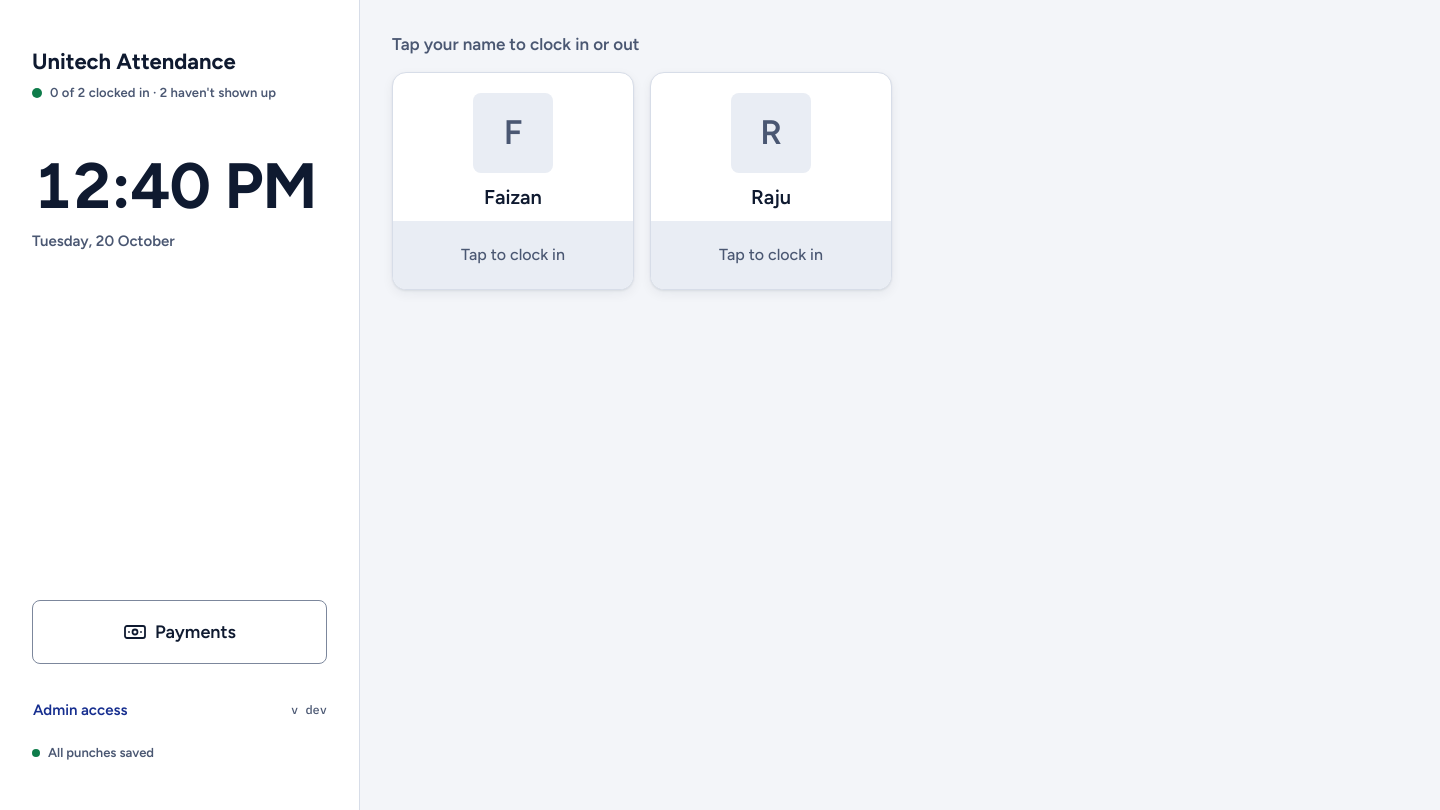
Kiosk · payments month and add › shows only what the employee logged, never the owner's amount
The width and height of the screenshot is (1440, 810).
Click the button "Payments" at (180, 632), box [32,600,327,664]
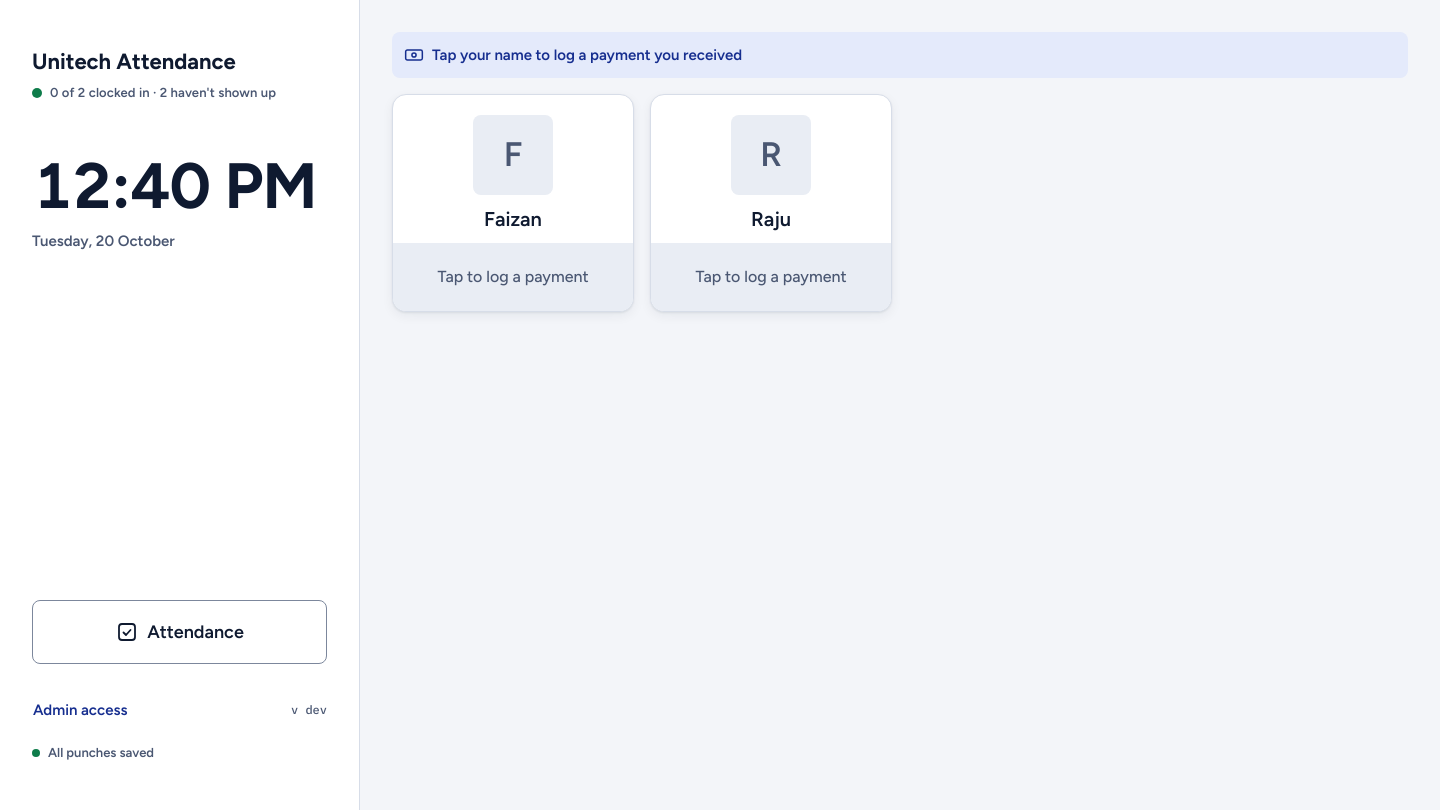
Click the button "R Raju Tap to log a payment" at (771, 203), box [650,94,892,312]
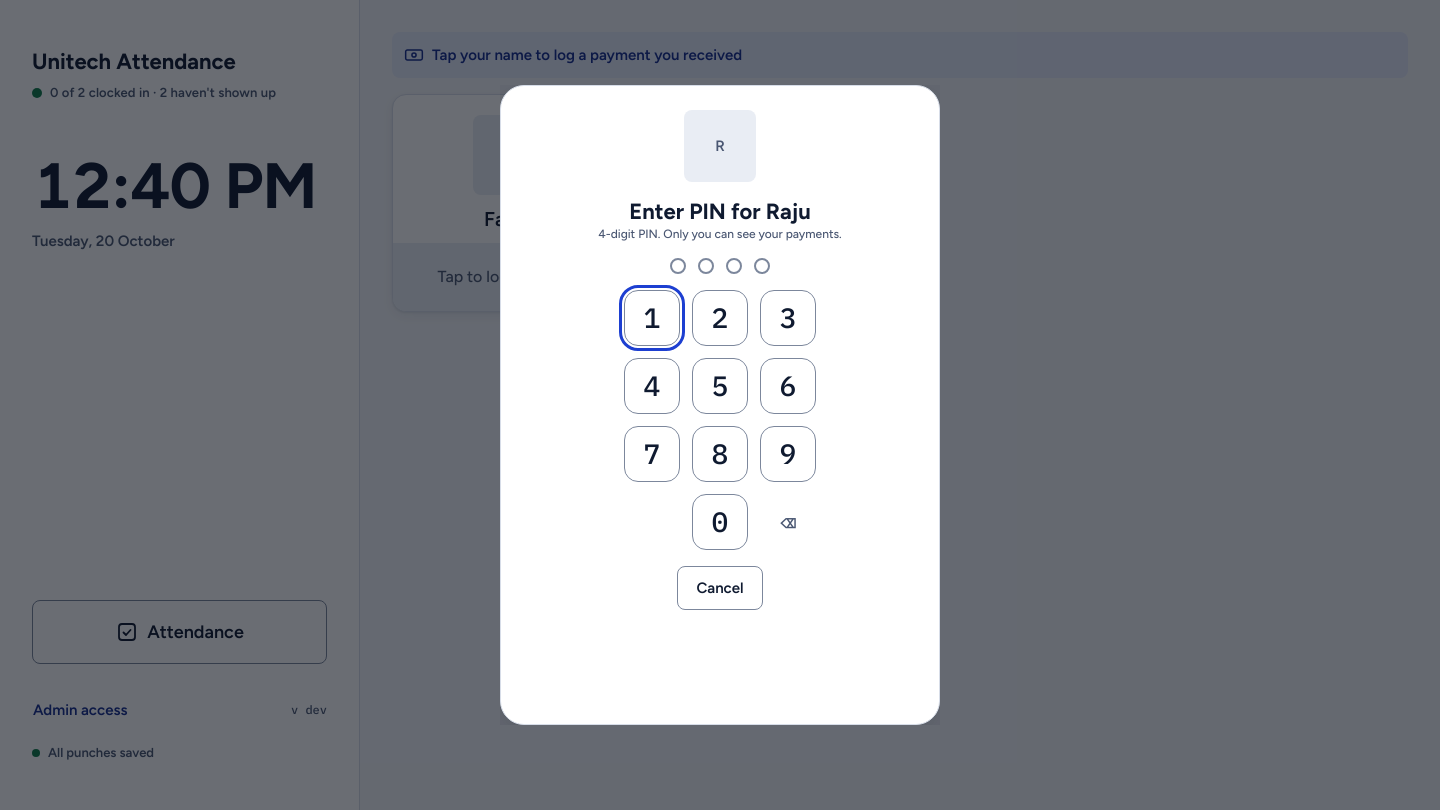
Result: the heading "Enter PIN for Raju" is shown at [629,198,811,225]
Click the button "4" at (652, 386), box [624,358,680,414]
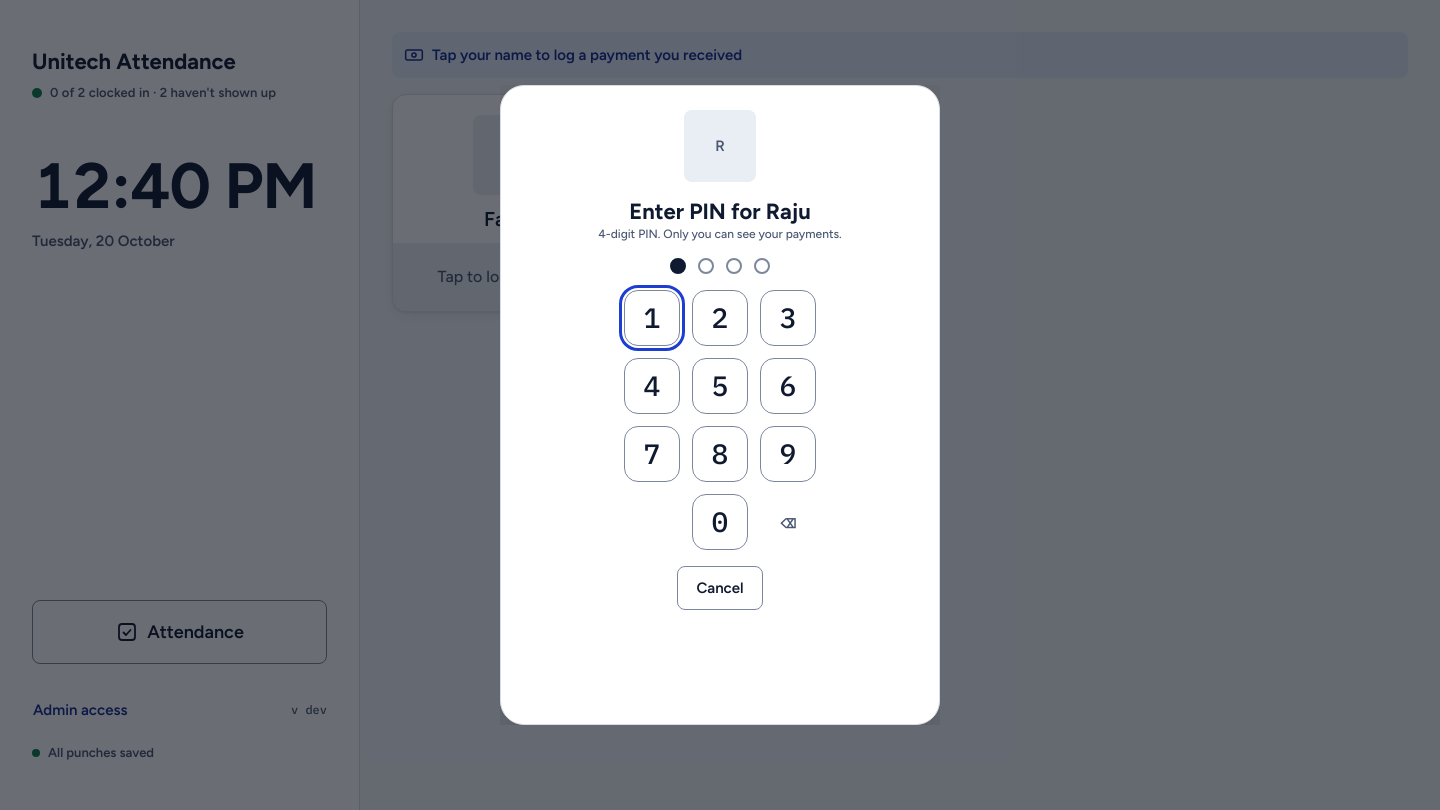
Click the button "8" at (720, 454), box [692,426,748,482]
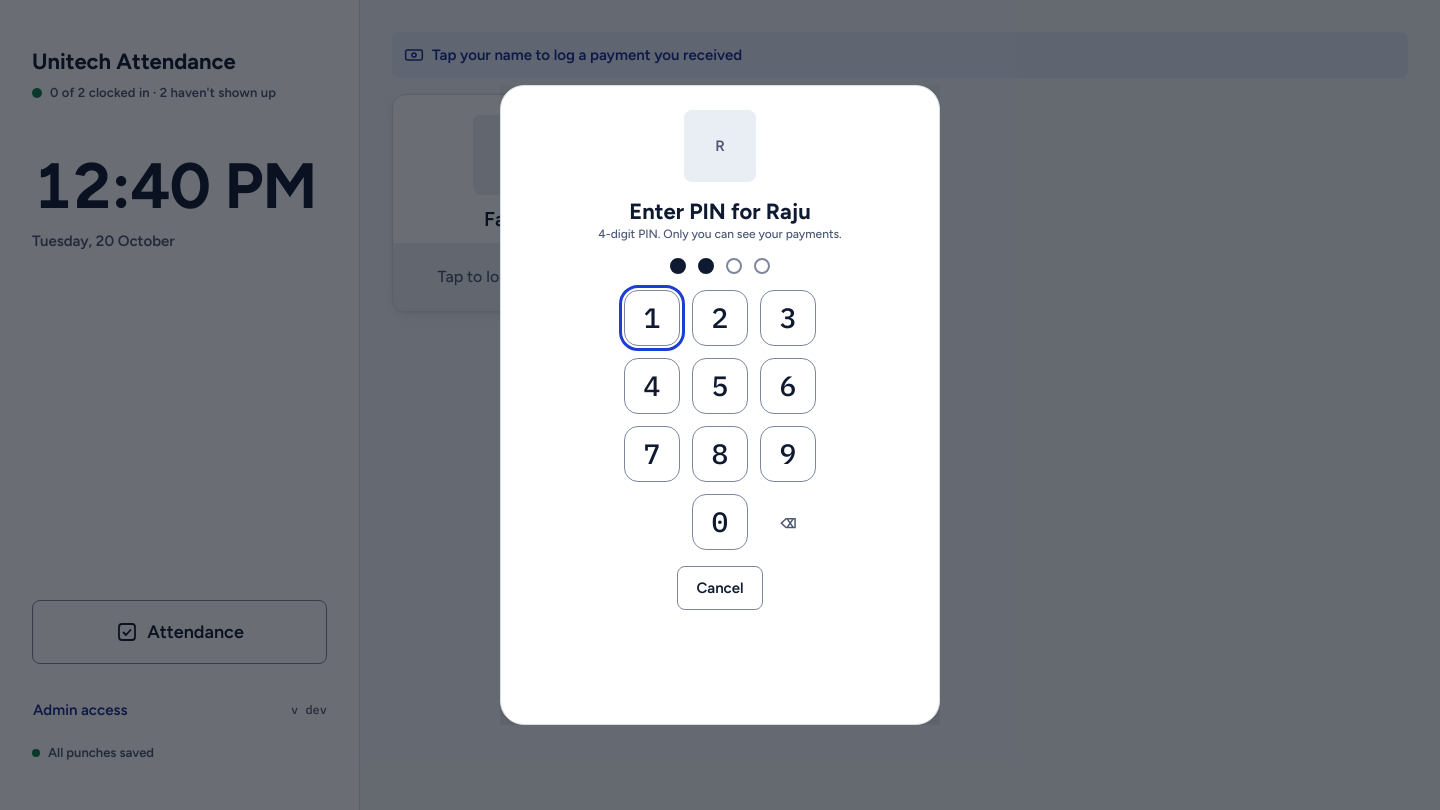
Click the button "2" at (720, 318), box [692,290,748,346]
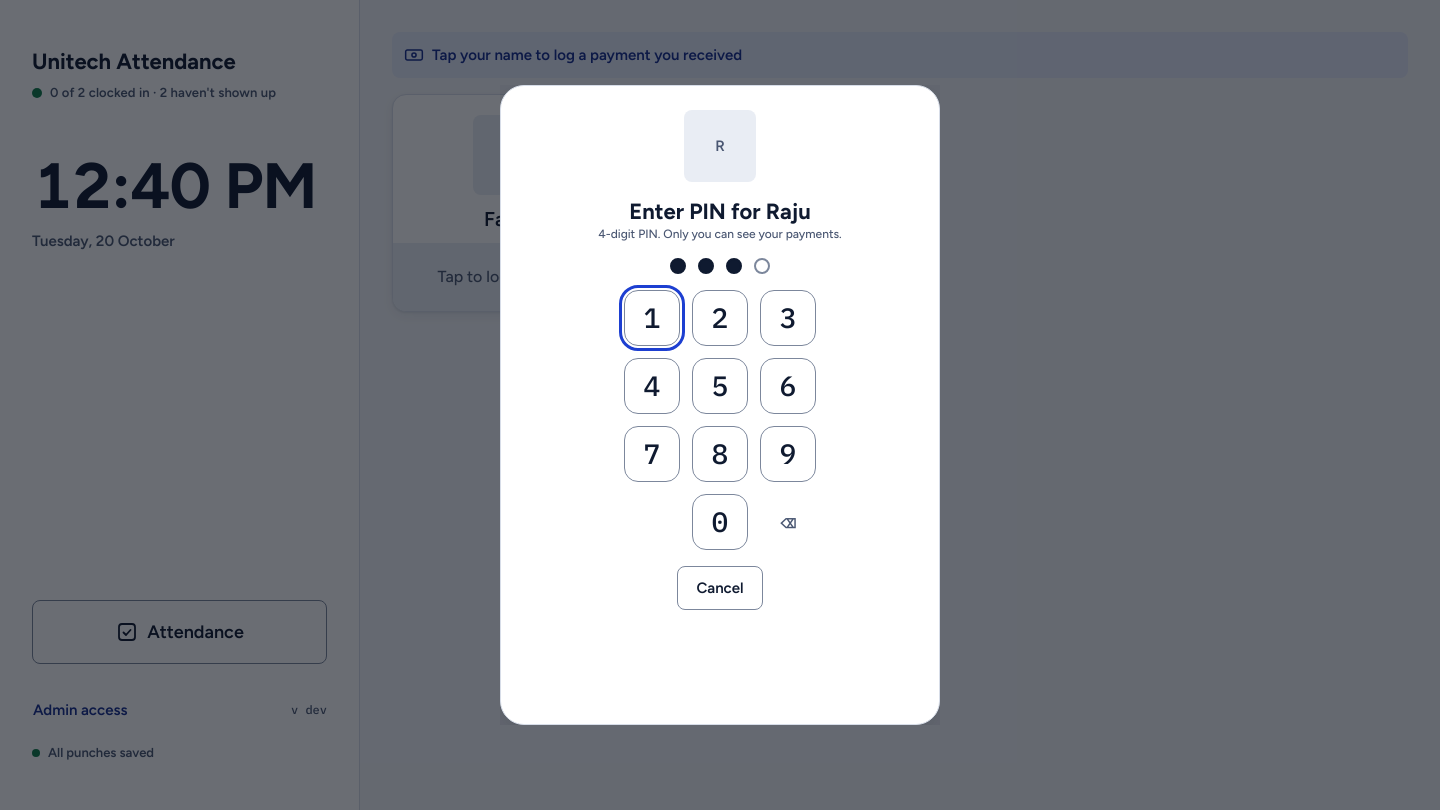
Click the button "1" at (652, 318), box [624,290,680,346]
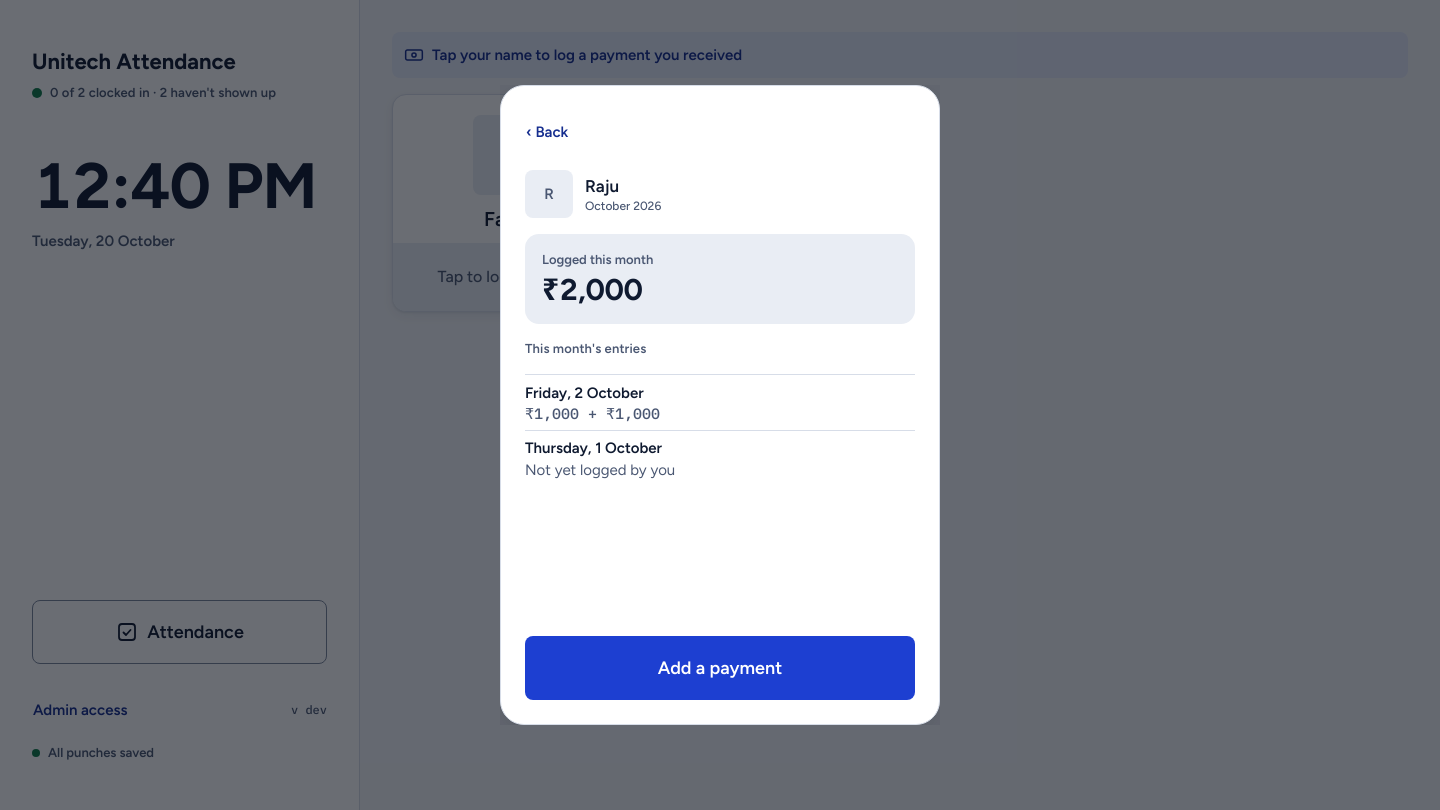
Result: the text "Logged this month" is shown at [542,252,653,267]
Result: the text "₹2,000" is shown at [542,271,643,308]
Result: the text "₹1,000 + ₹1,000" is shown at [525,404,660,422]
